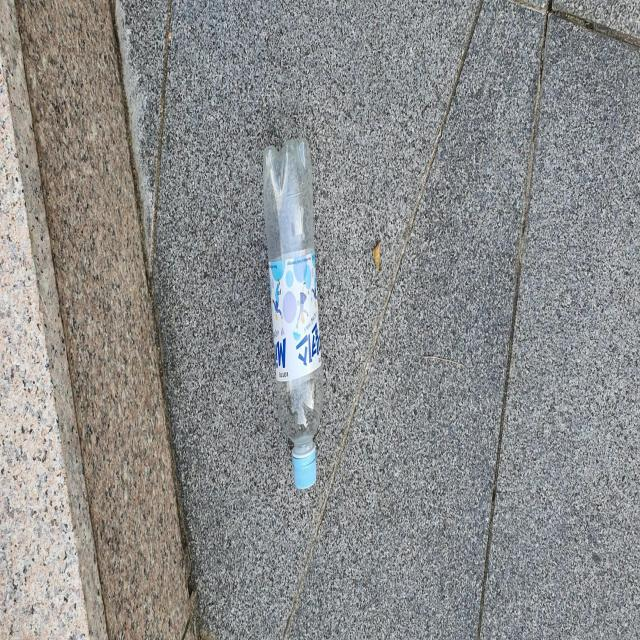plastic: (263, 137, 323, 489)
